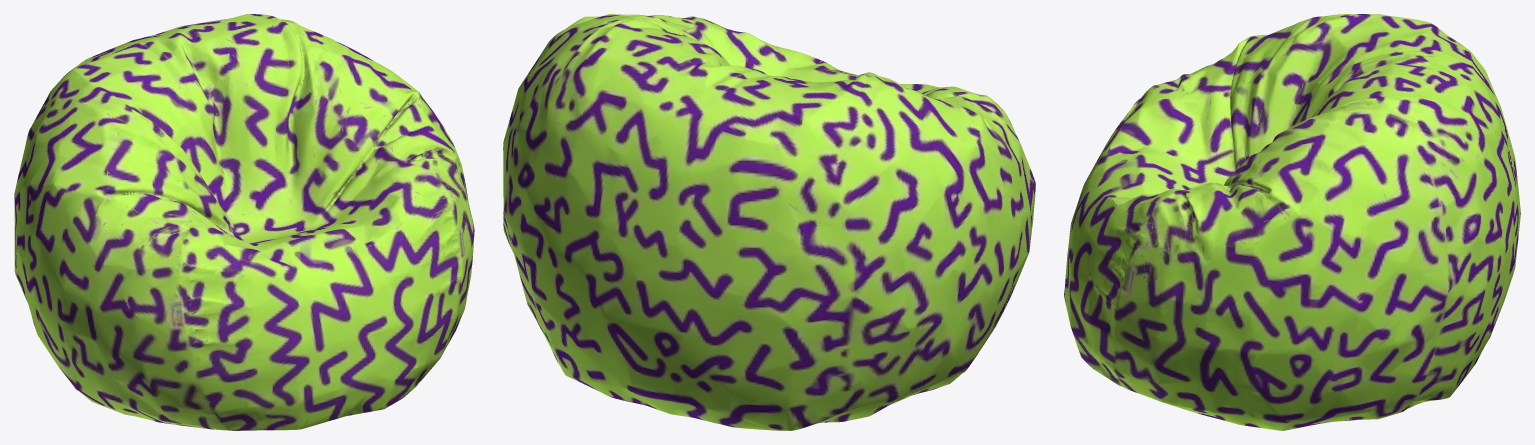
The model's file is bean.glb.
3 views of the same model, side by side, from view 1: azimuth 30°, elevation 25°; view 2: azimuth 150°, elevation 25°; view 3: azimuth 270°, elevation 25° (orthographic). The views are drawn at different scales.
Parts seen in each view (by area): view 1: Mesh_0; view 2: Mesh_0; view 3: Mesh_0.
Part boxes in pixels (bbox=[...]): Mesh_0: bbox=[14, 14, 474, 430]; Mesh_0: bbox=[503, 14, 1035, 430]; Mesh_0: bbox=[1064, 14, 1520, 430].
Bounding box in the file's own units: 1.9 × 1.31 × 1.82.
1 material, 1 textured.
